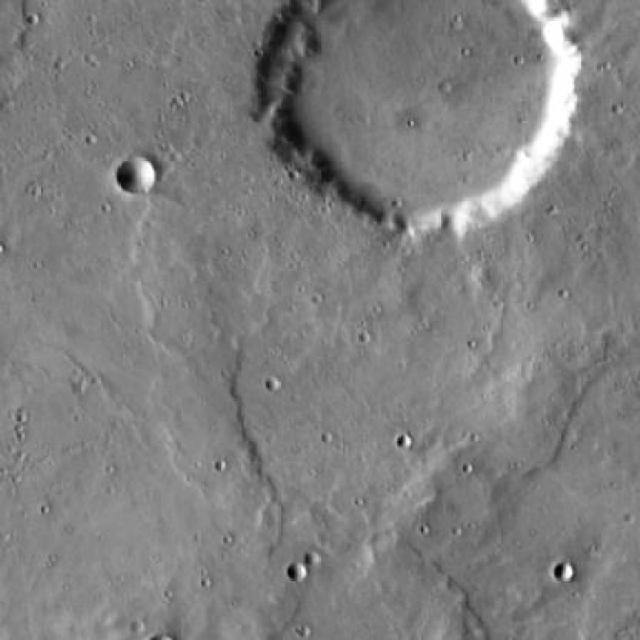crater: (253, 0, 573, 237), (116, 156, 152, 192), (289, 562, 309, 584), (556, 562, 573, 578)
